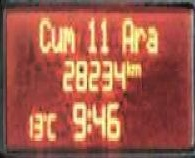1: (96, 13, 109, 53), (87, 13, 96, 51), (27, 111, 32, 140)
2: (60, 55, 74, 88), (86, 57, 99, 91)
3: (101, 57, 112, 91), (32, 111, 42, 137)
4: (90, 102, 104, 135), (113, 58, 124, 89)
6: (105, 100, 120, 138)
8: (74, 55, 87, 91)
9: (70, 98, 84, 138)
X: (37, 13, 51, 53), (120, 15, 133, 51), (61, 22, 74, 53), (144, 24, 158, 51), (133, 22, 145, 51), (51, 22, 62, 53), (46, 109, 56, 140), (85, 104, 90, 135), (131, 60, 141, 75), (124, 55, 130, 77)
